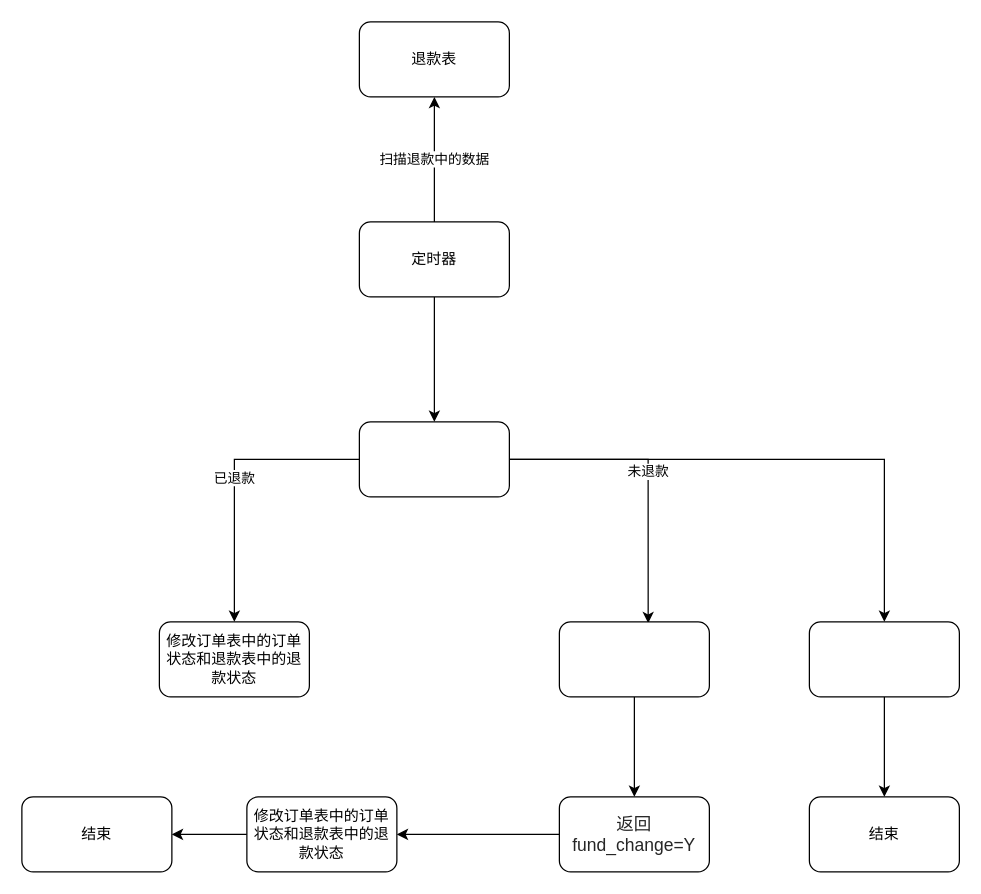
The diagram is 981 pixels wide and 894 high, and some of its shapes have lost their labels. The centre of each missing label's shape, as x and y in pixels:
查询支付宝或者微信的退款接口: the point at 433,459
请求微信退款接口: the point at 883,659
请求支付宝退款接口: the point at 633,659
